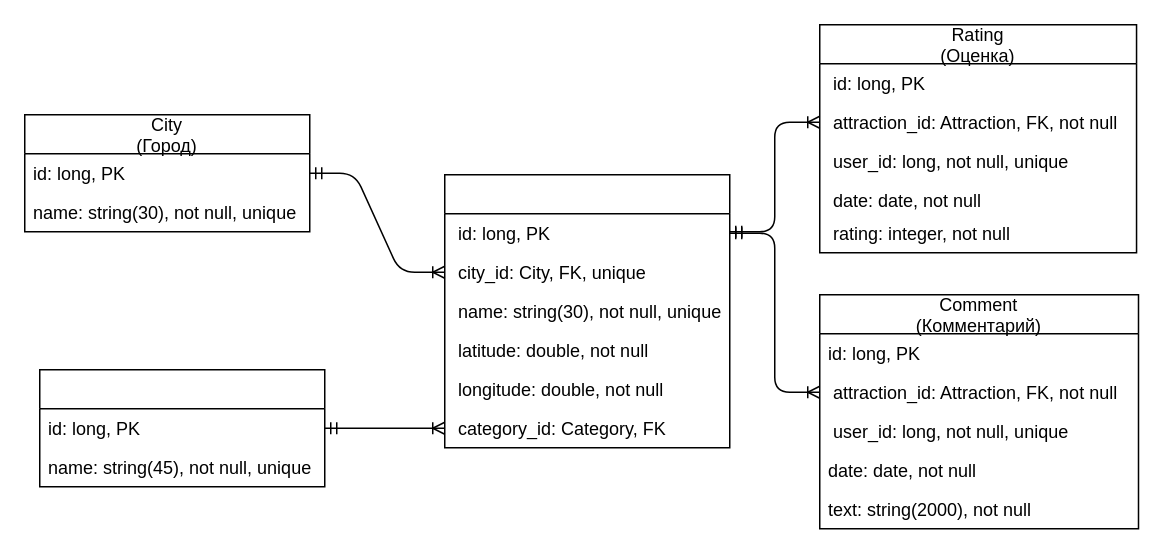
This 1163x554 diagram has some shape labels left out. Here are the shapes that lost their labels. From the top down, the box of each, then its label:
(443, 173, 730, 448): Attraction (Достопримечательности)
(38, 368, 325, 487): Category (Категория)
